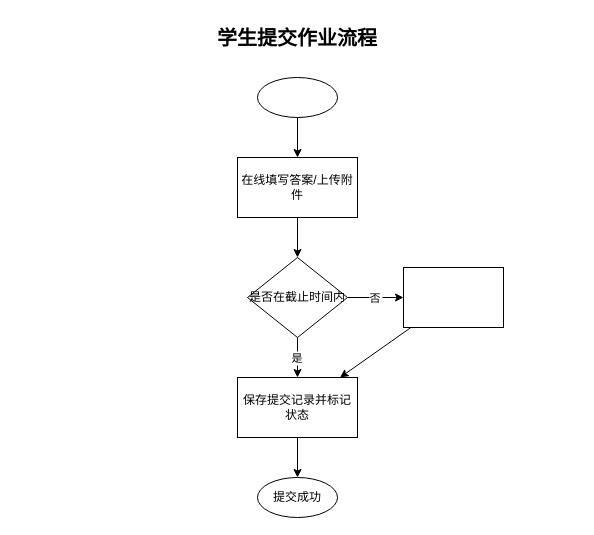
Image size: 594x535. Some labels were removed from this diagram. Here are the shapes that lost their labels. From the top down, the centre of each, then its label:
At (x=297, y=97): "学生查看待办作业".
At (x=453, y=297): "标记为“迟交”".
